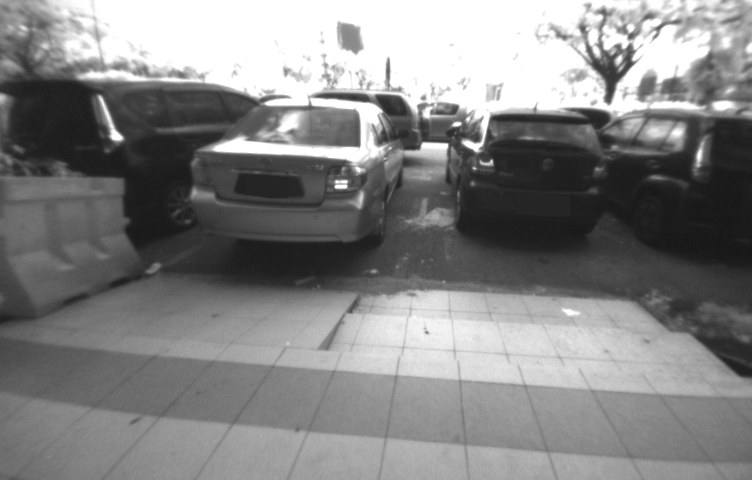down_steps: (332, 283, 718, 383)
mixed_gradient: (291, 279, 390, 375)
uncovered_drainage: (687, 322, 748, 386)
